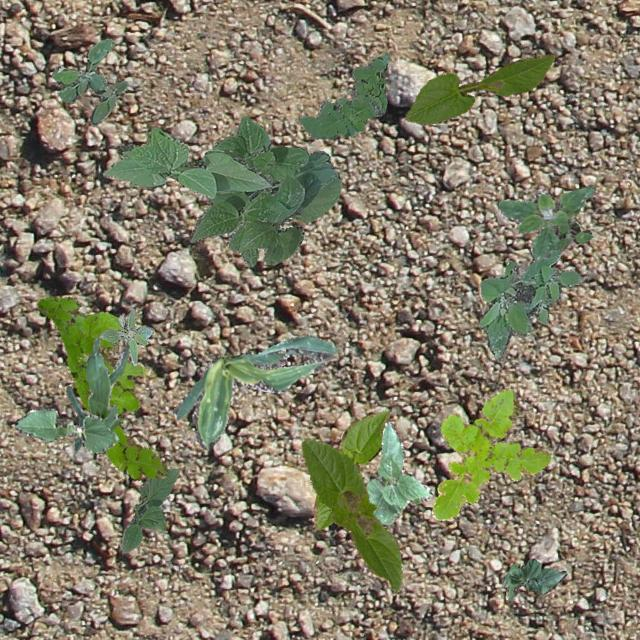crop: (188, 116, 340, 266), (172, 334, 336, 448), (300, 438, 400, 590), (102, 126, 270, 198), (404, 52, 554, 122), (312, 408, 390, 528), (66, 336, 128, 452), (364, 420, 432, 524), (120, 468, 178, 552), (13, 408, 118, 452), (500, 558, 566, 598)
weed: (36, 296, 166, 478), (430, 386, 550, 520), (478, 248, 580, 360), (298, 52, 388, 138), (496, 183, 594, 260), (50, 38, 126, 124), (98, 308, 152, 364)
